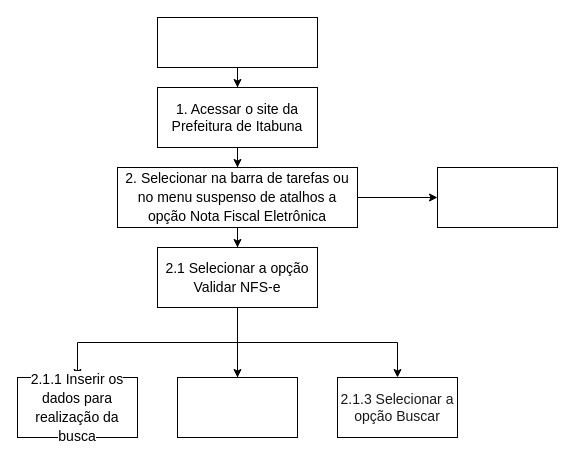
This 575x463 diagram has some shape labels left out. Here are the shapes that lost their labels. From the top down, the box of each, then its label:
(156, 16, 318, 68): 0. Validar Nota Fiscal Eletrônica
(436, 166, 558, 228): 3. Realizar login no site
(176, 376, 298, 438): 2.1.2 Efetuar a verificação do Captcha
